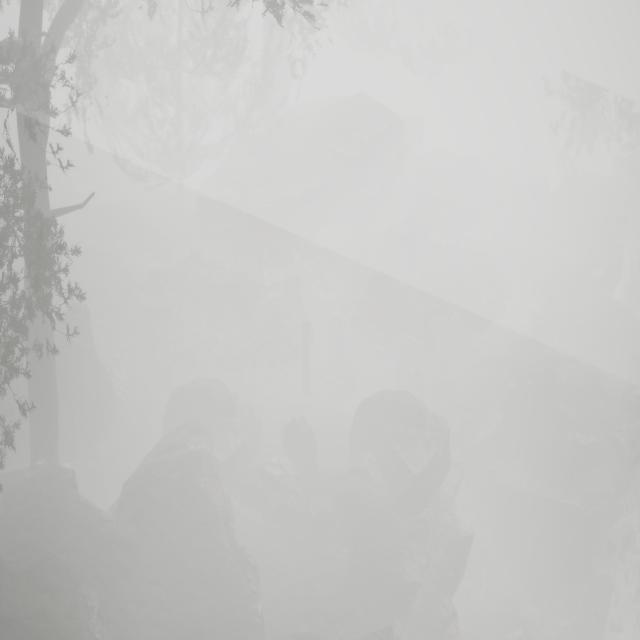Human: (292, 326, 316, 411)
